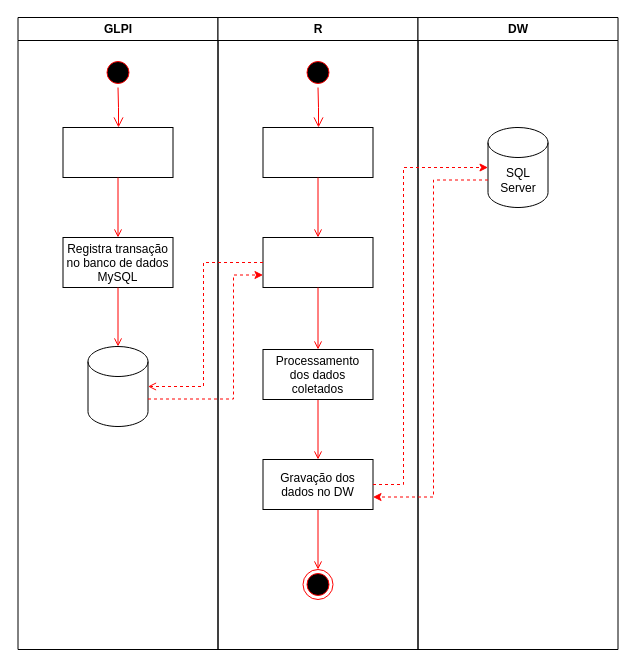
Some shapes in this 635 by 667 pixel diagram are drawn without their labels. The shapes that lost their labels are listed below. From the top down, each one's centre as x and y in pixels, then its label:
At (x=117, y=152): "Interação do usuário com o sistema".
At (x=317, y=152): "Inicialização do programa".
At (x=317, y=262): "Coleta de dados no GLPI".
At (x=117, y=386): "MySQL".
